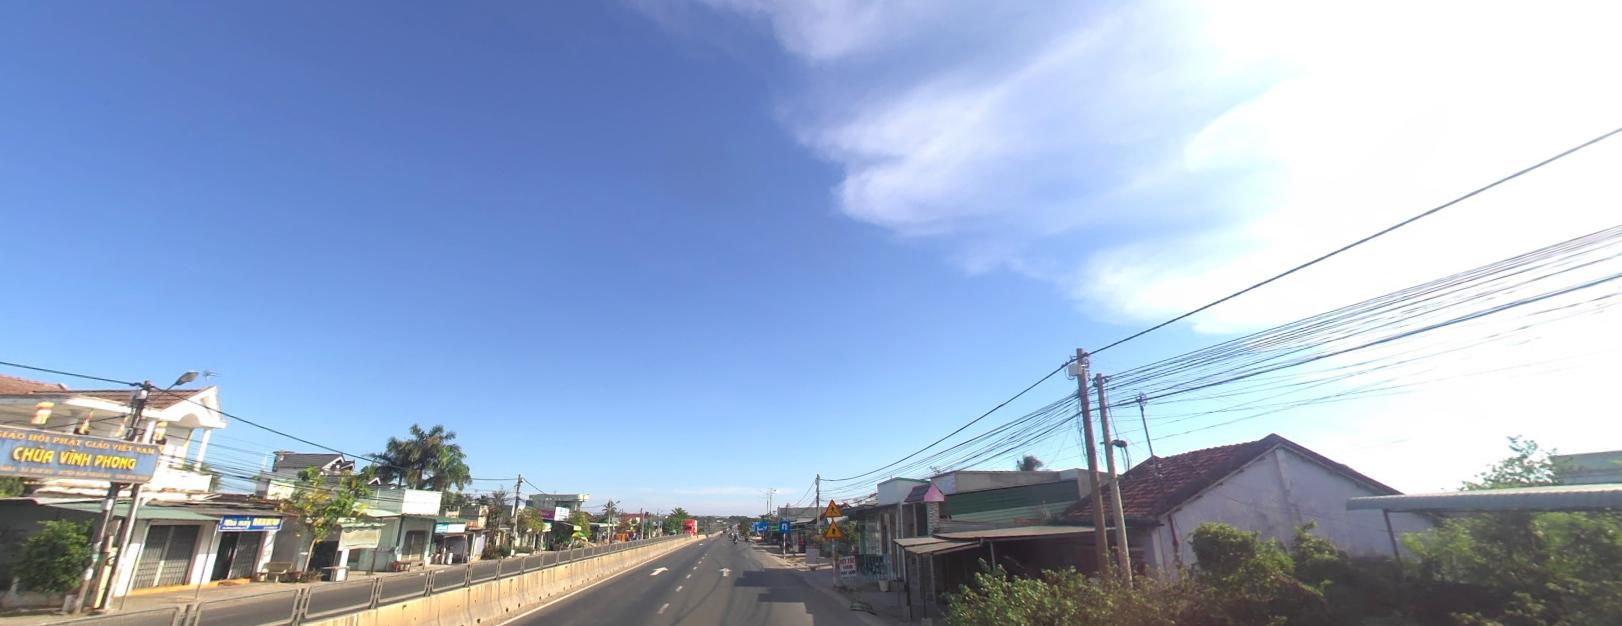Nguy hiem: (823, 496, 843, 516), (823, 518, 844, 537), (824, 520, 843, 537), (823, 499, 841, 515)
